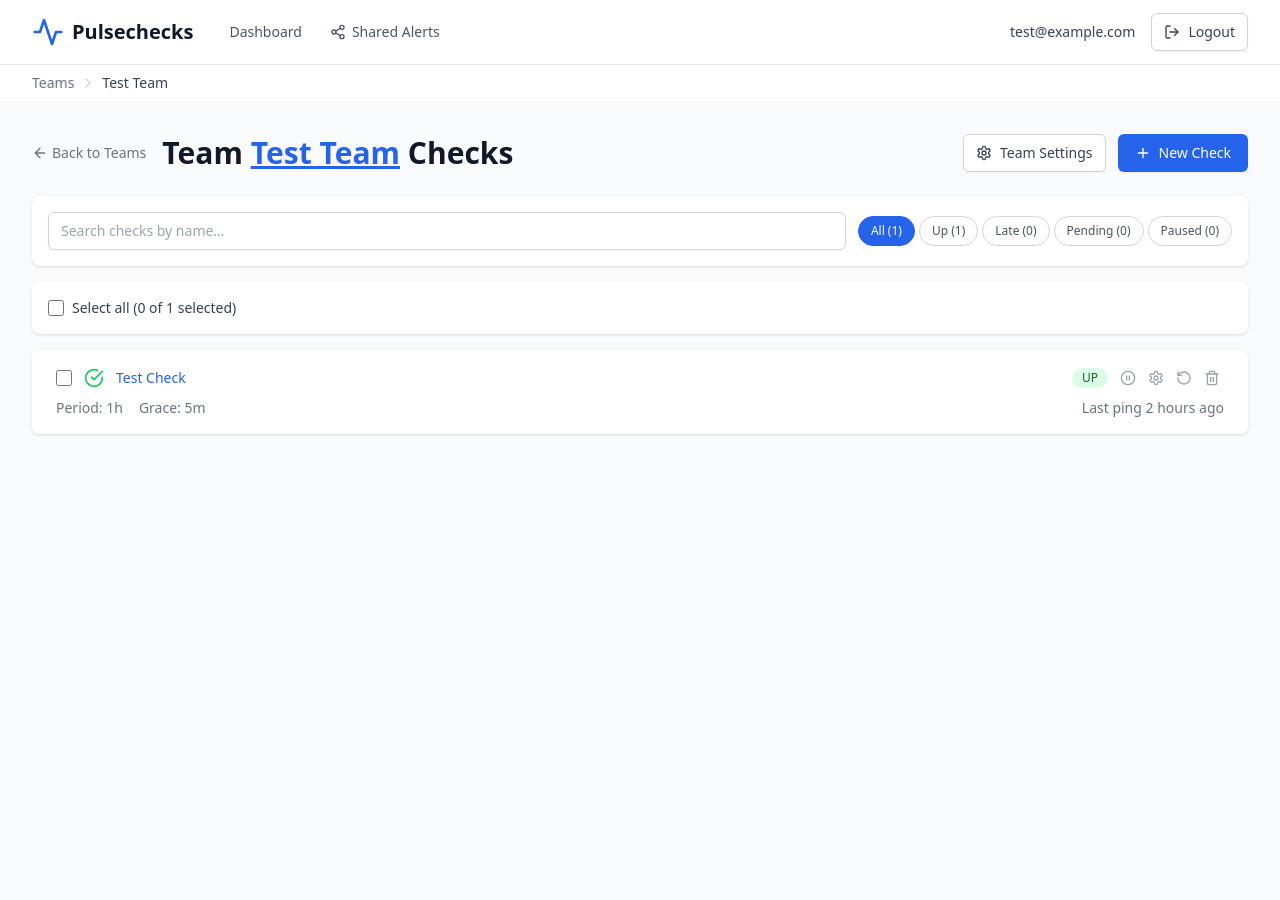
Test: ChecksPage › closes quick edit modal when cancel is clicked
Check: the text "Test Check" is shown, box left=116, top=368, right=186, bottom=388
Note: Open quick edit modal
Click the button titled "Quick Edit" at (1156, 378), box left=1144, top=366, right=1168, bottom=390
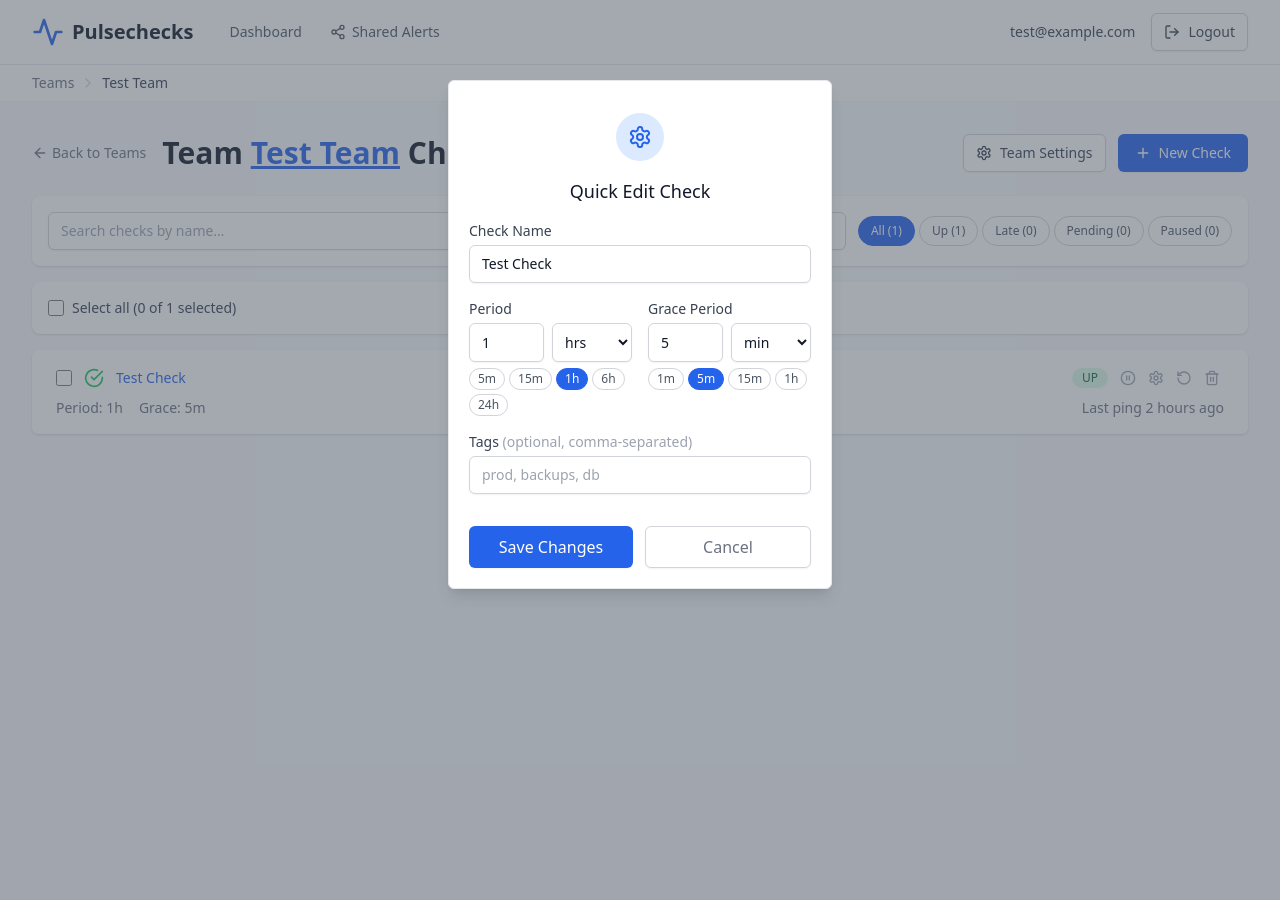
Check: the heading "Quick Edit Check" is shown, box left=570, top=179, right=710, bottom=203
Note: Click cancel
Click the button "Cancel" at (728, 547), box left=645, top=526, right=811, bottom=568
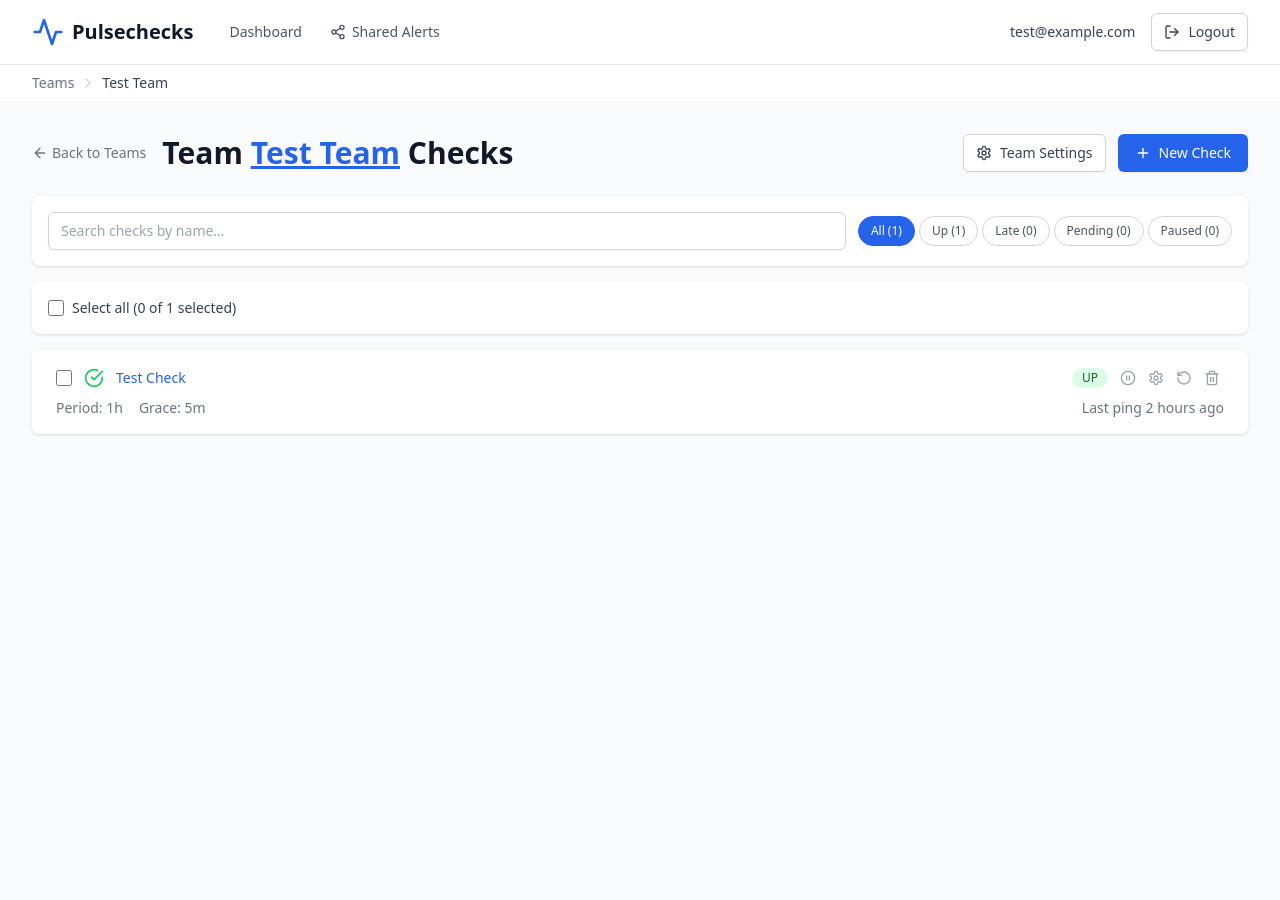
Check: the heading "Quick Edit Check" is gone
